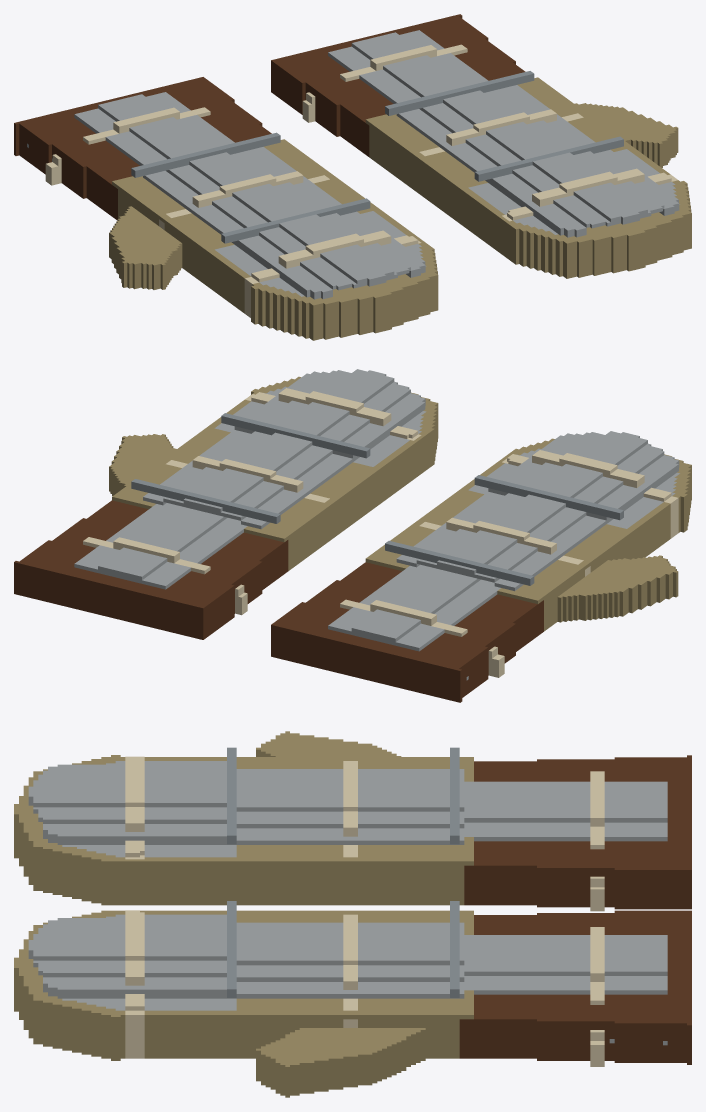
The model's file is mitten_gaunt_metal_sheets.glb.
3 views of the same model, one above another, from view 1: azimuth 30°, elevation 25°; view 2: azimuth 150°, elevation 25°; view 3: azimuth 270°, elevation 25° (orthographic). The views are drawn at different scales.
Visible parts, largest first — view 1: mitten_gaunt_metal_sheets:compound; view 2: mitten_gaunt_metal_sheets:compound; view 3: mitten_gaunt_metal_sheets:compound.
Part boxes in pixels (left/top/right/bottom): mitten_gaunt_metal_sheets:compound: left=14, top=14, right=691, bottom=340; mitten_gaunt_metal_sheets:compound: left=14, top=369, right=691, bottom=702; mitten_gaunt_metal_sheets:compound: left=14, top=731, right=691, bottom=1097.
Bounding box in the file's own units: 0.328 × 0.03 × 0.28.
